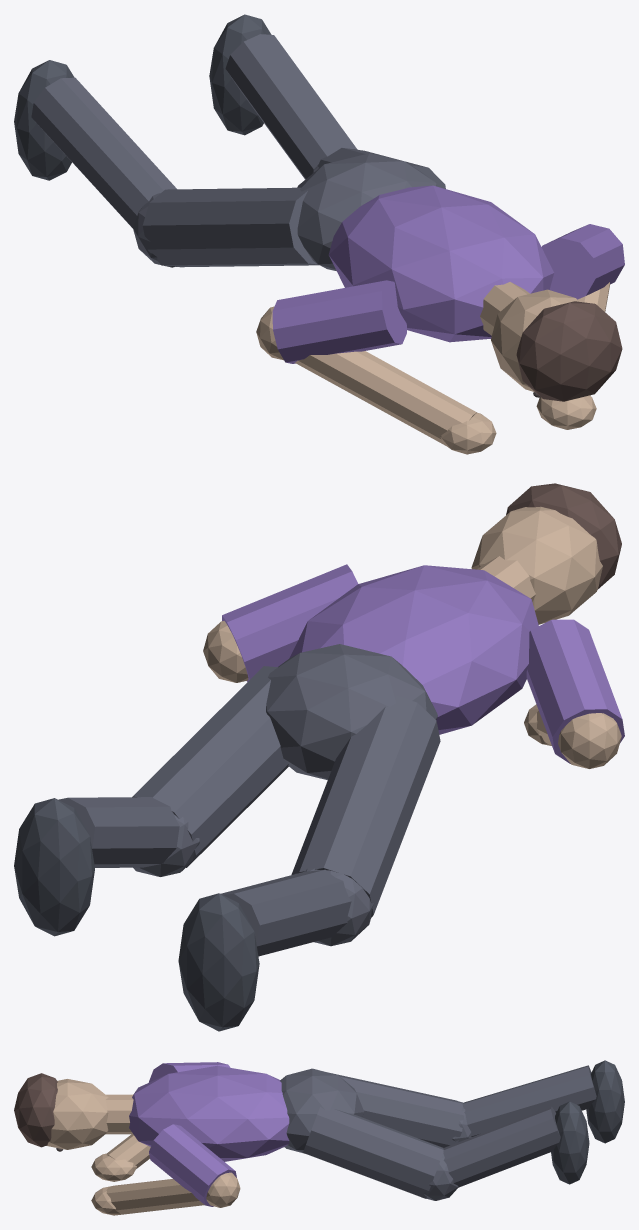
3 renders of one model, top to bottom at view 1: azimuth 30°, elevation 25°; view 2: azimuth 150°, elevation 25°; view 3: azimuth 270°, elevation 25°, orthographic. The views are drawn at different scales.
Parts seen in each view (by area): view 1: world; view 2: world; view 3: world.
Boxes of the visible parts, left/top/right/bottom form: world: left=14, top=14, right=624, bottom=454; world: left=14, top=483, right=624, bottom=1031; world: left=14, top=1060, right=624, bottom=1215.
Size of the model in its own units: 0.93 by 0.4362 by 2.
